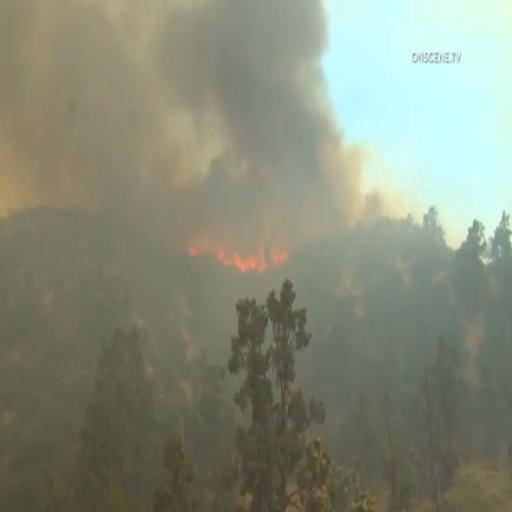fire: (191, 236, 289, 273)
smoke: (6, 2, 380, 170)
